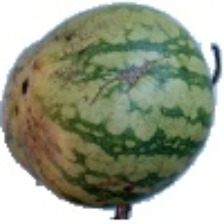watermelon: (40, 35, 184, 224)
